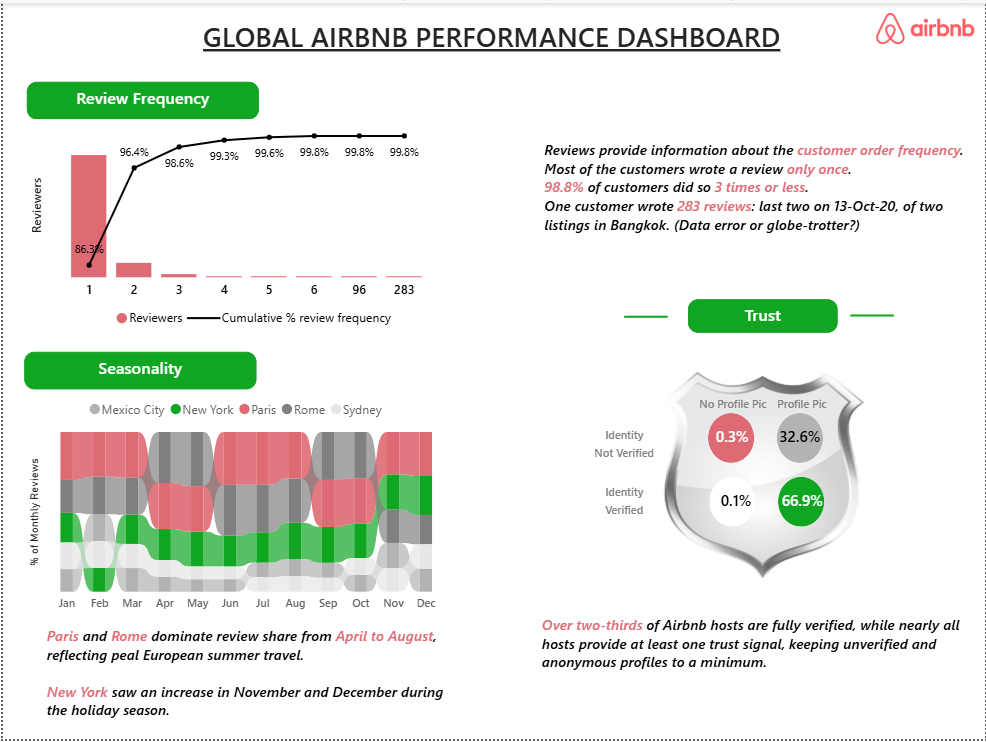

What the dashboard file says about the page in this screenshot:
{"tool":"powerbi","page":{"name":"Reviews","canvas":[960,720],"ordinal":2},"visuals":[{"type":"textbox","box":[191.2,10,578.8,47.5],"z":0},{"type":"image","box":[843.8,10,116.2,30],"z":1000},{"type":"textbox","box":[23.2,77,227.4,36.7],"z":2000},{"type":"textbox","box":[670.1,289.8,146.7,33],"z":3000},{"type":"shape","box":[607.7,286.1,42.8,41.6],"z":4000},{"type":"shape","box":[829.1,284.9,42.8,41.6],"z":5000},{"type":"lineStackedColumnComboChart","fields":{"Category":["Reviews.Reviews per reviewer"],"Y":["Reviews.Reviewers"],"Y2":["Reviews.Cumulative % review frequency"]},"box":[23.2,113.7,448.8,212.8],"z":7000},{"type":"textbox","box":[524.6,128.4,420.7,144.3],"z":8000},{"type":"image","box":[549.1,306.9,387.6,313],"z":9000},{"type":"shape","box":[689.7,401.1,45.2,48.9],"z":10000},{"type":"shape","box":[756.9,401.1,45.2,48.9],"z":11000},{"type":"shape","box":[690.9,463.5,45.2,48.9],"z":12000},{"type":"shape","box":[758.2,463.5,45.2,48.9],"z":13000},{"type":"cardVisual","fields":{"Data":["Listings.Verified_Profile%"]},"box":[734.9,463.5,94.2,44],"z":14000},{"type":"textbox","box":[676.2,376.6,80.7,36.7],"z":15000},{"type":"textbox","box":[743.5,376.6,73.4,36.7],"z":16000},{"type":"textbox","box":[571.1,407.2,73.4,56.3],"z":17000},{"type":"textbox","box":[571.1,463.5,73.4,56.3],"z":18000},{"type":"cardVisual","fields":{"Data":["Listings.NotVerified_NoProfile%"]},"box":[666.4,401.1,94.2,44],"z":19000},{"type":"cardVisual","fields":{"Data":["Listings.NotVerified_Profile%"]},"box":[732.5,401.1,94.2,44],"z":20000},{"type":"cardVisual","fields":{"Data":["Listings.Verified_NoProfile%"]},"box":[670.1,463.5,94.2,44],"z":21000},{"type":"textbox","box":[522.1,593.1,420.7,127.2],"z":22000},{"type":"textbox","box":[20.8,341.2,227.4,36.7],"z":23000},{"type":"ribbonChart","fields":{"Y":["Reviews.% of Monthly Reviews"],"Series":["Listings.city"],"Category":["Reviews.Review Month"]},"box":[21.2,377.5,417.5,226.2],"z":24000},{"type":"textbox","box":[37.9,604.1,420.7,116.2],"z":25000}]}

Visuals, with their boxes in screenshot pixels (x1, y1, x2, y2), scaled from the page's 960x720 canvas onto the 986x742 screenshot:
textbox: bbox=(196, 10, 791, 59)
image: bbox=(867, 10, 985, 41)
textbox: bbox=(24, 79, 257, 117)
textbox: bbox=(688, 299, 839, 333)
shape: bbox=(624, 295, 668, 338)
shape: bbox=(852, 294, 896, 336)
lineStackedColumnComboChart - Reviews.Reviews per reviewer x Reviews.Reviewers: bbox=(24, 117, 485, 336)
textbox: bbox=(539, 132, 971, 281)
image: bbox=(564, 316, 962, 639)
shape: bbox=(708, 413, 755, 464)
shape: bbox=(777, 413, 824, 464)
shape: bbox=(710, 478, 756, 528)
shape: bbox=(779, 478, 825, 528)
cardVisual - Listings.Verified_Profile%: bbox=(755, 478, 852, 523)
textbox: bbox=(695, 388, 777, 426)
textbox: bbox=(764, 388, 839, 426)
textbox: bbox=(587, 420, 662, 478)
textbox: bbox=(587, 478, 662, 536)
cardVisual - Listings.NotVerified_NoProfile%: bbox=(684, 413, 781, 459)
cardVisual - Listings.NotVerified_Profile%: bbox=(752, 413, 849, 459)
cardVisual - Listings.Verified_NoProfile%: bbox=(688, 478, 785, 523)
textbox: bbox=(536, 611, 968, 741)
textbox: bbox=(21, 352, 255, 389)
ribbonChart - Reviews.% of Monthly Reviews x Listings.city: bbox=(22, 389, 451, 622)
textbox: bbox=(39, 623, 471, 741)
